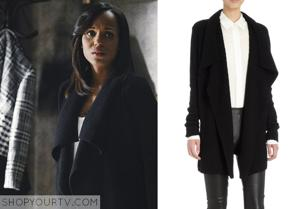S_cardigan sweater: (186, 8, 284, 181)
